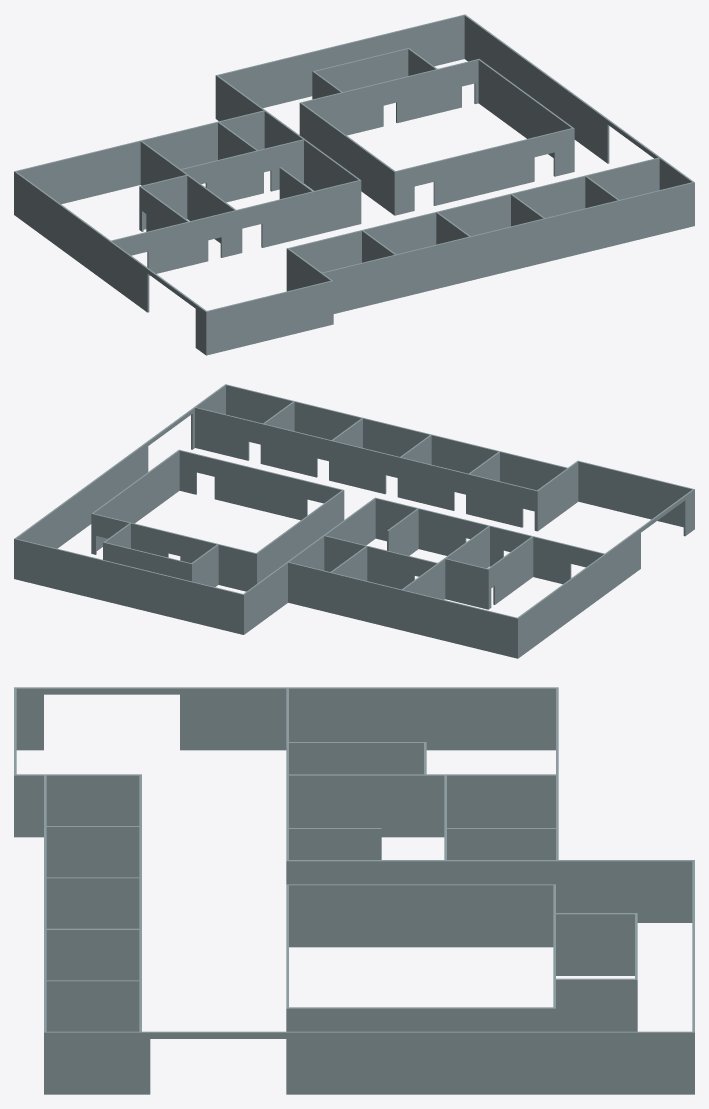
File: Walls.dae
3 renders of one model, top to bottom at view 1: azimuth 30°, elevation 25°; view 2: azimuth 150°, elevation 25°; view 3: azimuth 270°, elevation 25°, orthographic. The views are drawn at different scales.
Visible parts, largest first — view 1: 63a4e33597abfb1b1e2a80e4, Part 6, Part 7, Part 4, Part 2, Part 5, Part 3; view 2: 63a4e33597abfb1b1e2a80e4, Part 6, Part 7, Part 4, Part 2, Part 3, Part 5; view 3: 63a4e33597abfb1b1e2a80e4, Part 6, Part 3, Part 4, Part 2, Part 5.
Part boxes in pixels (x1,y1,x2,y2): 63a4e33597abfb1b1e2a80e4: [14, 14, 694, 355]; Part 6: [299, 48, 574, 215]; Part 7: [343, 69, 436, 135]; Part 4: [436, 212, 470, 244]; Part 2: [585, 176, 618, 208]; Part 5: [362, 230, 395, 262]; Part 3: [511, 194, 544, 226]; 63a4e33597abfb1b1e2a80e4: [14, 384, 694, 658]; Part 6: [91, 449, 344, 591]; Part 7: [131, 523, 217, 562]; Part 4: [400, 435, 431, 464]; Part 2: [263, 401, 294, 430]; Part 3: [332, 418, 362, 447]; Part 5: [469, 451, 499, 481]; 63a4e33597abfb1b1e2a80e4: [14, 687, 694, 1094]; Part 6: [286, 884, 637, 1031]; Part 3: [46, 928, 139, 980]; Part 4: [46, 877, 139, 928]; Part 2: [46, 980, 139, 1031]; Part 5: [46, 826, 139, 877].
Bounding box in the file's own units: 60 × 50 × 5.
